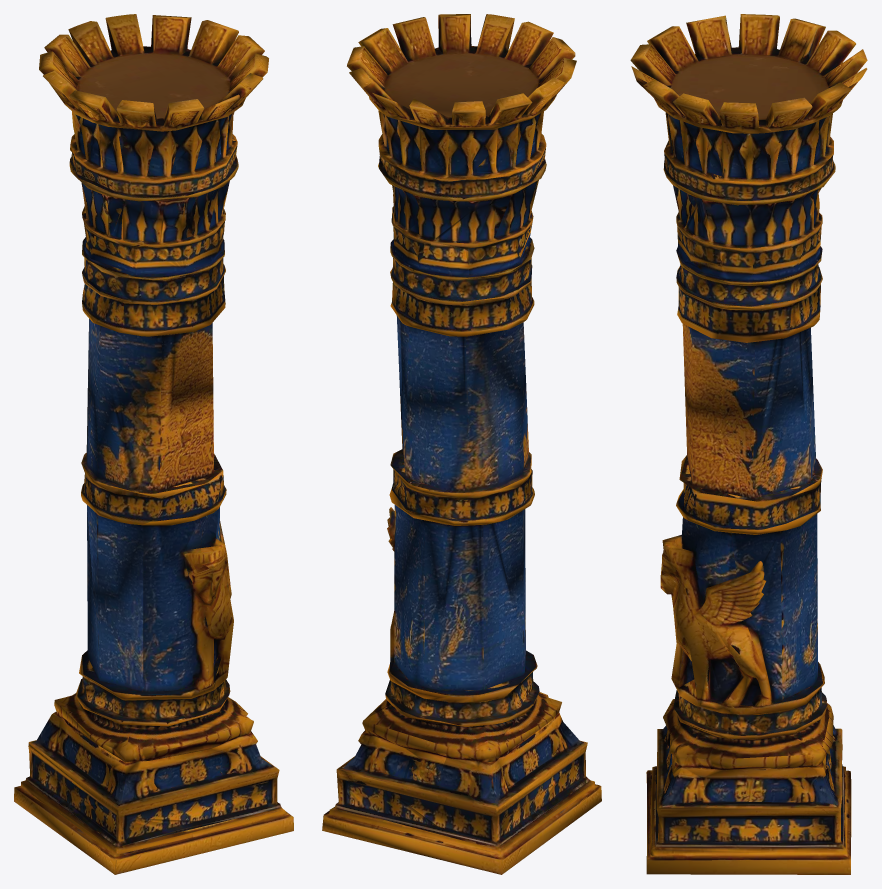
Rendered from اعمدة-lod1.glb.
3 views of the same model, side by side, from view 1: azimuth 30°, elevation 25°; view 2: azimuth 150°, elevation 25°; view 3: azimuth 270°, elevation 25° (orthographic).
Visible parts, largest first — view 1: world; view 2: world; view 3: world.
Boxes of the visible parts, x1,y1,x2,y2 form: world: (14,14,293,874); world: (322,14,601,874); world: (630,14,867,874).
Bounding box in the file's own units: 0.2728 × 0.9978 × 0.2781.
Materials: 1 (1 with a texture image).
